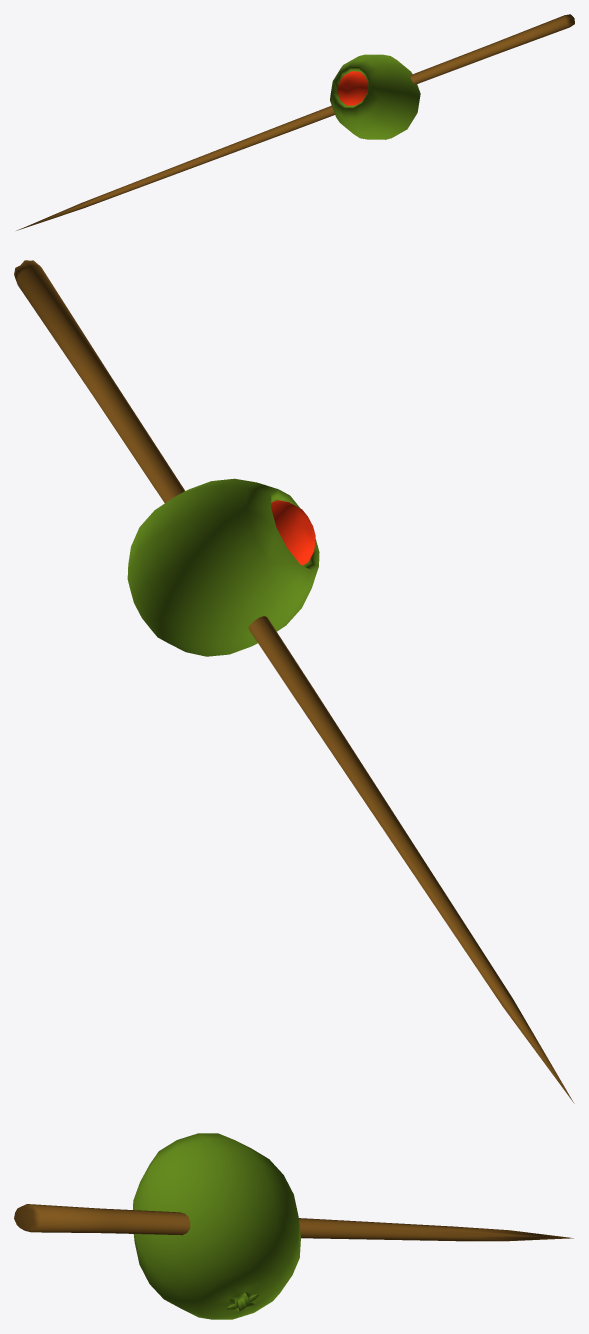
The model's file is olive.obj.
3 views of the same model, one above another, from view 1: azimuth 30°, elevation 25°; view 2: azimuth 150°, elevation 25°; view 3: azimuth 270°, elevation 25° (orthographic). The views are drawn at different scales.
Parts seen in each view (by area): view 1: dynamic; view 2: dynamic; view 3: dynamic.
Boxes of the visible parts, x1,y1,x2,y2 form: dynamic: (16,14,574,230); dynamic: (14,260,574,1103); dynamic: (14,1133,573,1319).
Bounding box in the file's own units: 3173 × 1577 × 1879.
